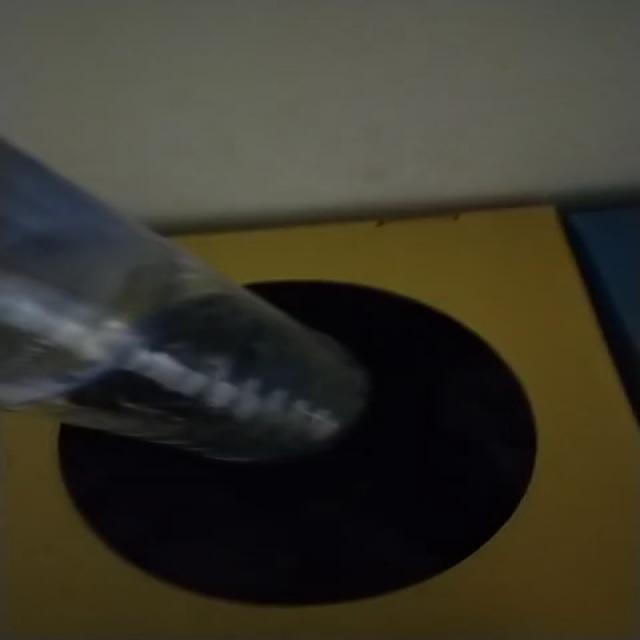plastic: (0, 141, 368, 460)
